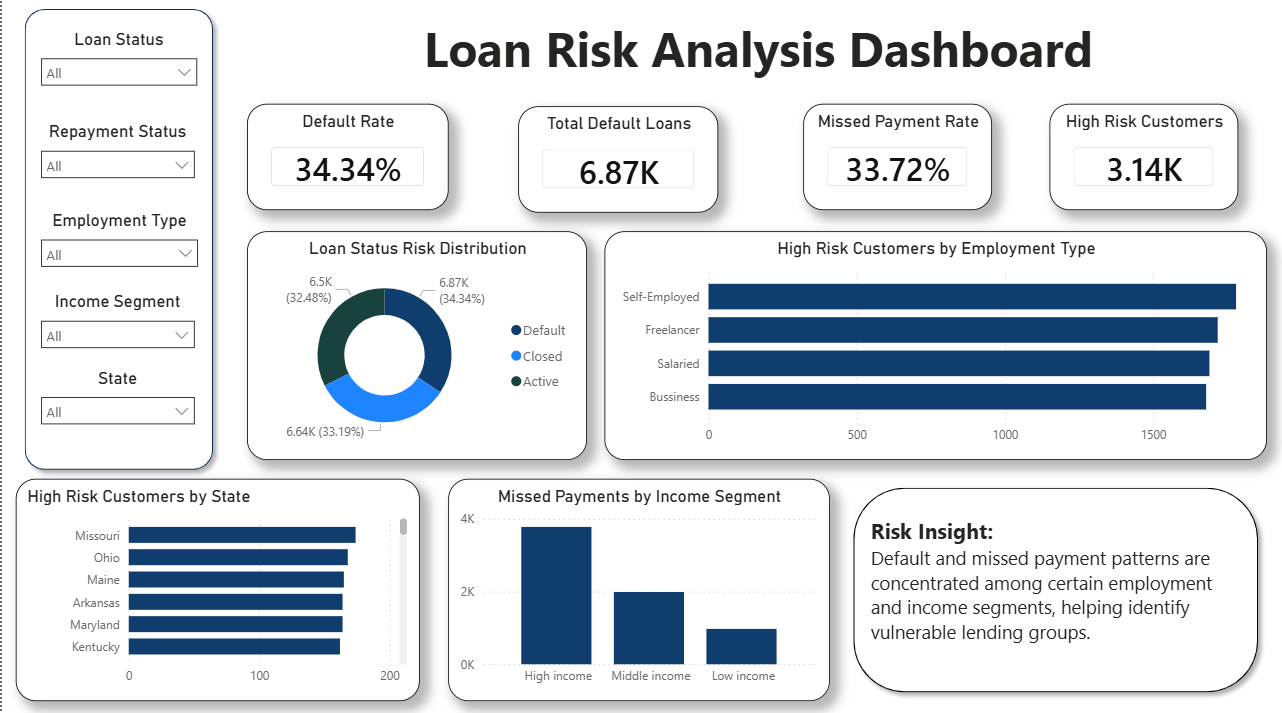

The page's visual inventory and layout, read from the dashboard file:
{"tool":"powerbi","page":{"name":"loan_risk_analysis","canvas":[1280,720],"ordinal":2},"visuals":[{"type":"shape","box":[842.5,478.8,422.5,222.5],"z":0},{"type":"shape","box":[13.8,0,206.2,478.8],"z":1000},{"type":"shape","box":[245,103.8,1020,110],"z":2000},{"type":"donutChart","title":"Loan Status Risk Distribution","fields":{"Category":["customer_loan_analytics.loan_status"],"Y":["CountNonNull(customer_loan_analytics.loan_status)"]},"box":[245,231.2,340,228.8],"z":3000},{"type":"clusteredBarChart","title":"High Risk Customers by Employment Type","fields":{"Category":["customer_loan_analytics.employment_type"],"Y":["Sum(customer_loan_analytics.high_risk_flag)"]},"box":[602.5,231.2,662.5,228.8],"z":4000},{"type":"slicer","title":"Employment Type","fields":{"Values":["customer_loan_analytics.employment_type"]},"box":[28.8,210,177.5,71.2],"z":5000},{"type":"slicer","title":"Income Segment","fields":{"Values":["customer_loan_analytics.income_segment"]},"box":[28.8,291.2,173.8,76.2],"z":6000},{"type":"slicer","title":"Loan Status","fields":{"Values":["customer_loan_analytics.loan_status"]},"box":[28.8,28.8,176.2,75],"z":7000},{"type":"slicer","title":"Repayment Status ","fields":{"Values":["customer_loan_analytics.repayment_status"]},"box":[28.8,121.2,173.8,73.8],"z":8000},{"type":"slicer","title":"State","fields":{"Values":["customer_loan_analytics.state"]},"box":[28.8,367.5,173.8,81.2],"z":9000},{"type":"shape","box":[277.1,10,990,74.3],"z":10000},{"type":"textbox","box":[245,10,1022.5,73.8],"z":11000},{"type":"cardVisual","title":"Total Default Loans","fields":{"Data":["customer_loan_analytics.Total Default Loans"]},"box":[516.2,106.2,200,106.2],"z":12000},{"type":"cardVisual","title":"Default Rate","fields":{"Data":["customer_loan_analytics.default rate"]},"box":[245,103.8,201.2,106.2],"z":13000},{"type":"cardVisual","title":"Missed Payment Rate","fields":{"Data":["customer_loan_analytics.Missed Payment Rate"]},"box":[801.2,103.8,188.8,106.2],"z":14000},{"type":"cardVisual","title":"High Risk Customers","fields":{"Data":["customer_loan_analytics.High Risk Customers"]},"box":[1047.5,103.8,188.8,106.2],"z":15000},{"type":"columnChart","title":"Missed Payments by Income Segment","fields":{"Category":["customer_loan_analytics.income_segment"],"Y":["Sum(customer_loan_analytics.missed_payment_flag)"]},"box":[446.2,478.8,381.2,222.5],"z":16000},{"type":"barChart","title":"High Risk Customers by State","fields":{"Y":["Sum(customer_loan_analytics.high_risk_flag)"],"Category":["customer_loan_analytics.state"]},"box":[13.8,478.8,403.8,222.5],"z":17000},{"type":"textbox","box":[863.8,511.2,372.5,157.5],"z":18000}]}

Visuals, with their boxes in screenshot pixels (x1, y1, x2, y2), scaled from the page's 1280x720 canvas onto the 1282x713 screenshot:
shape: 844,474,1267,694
shape: 14,0,220,474
shape: 245,103,1267,212
"Loan Status Risk Distribution" donutChart: 245,229,586,456
"High Risk Customers by Employment Type" clusteredBarChart: 603,229,1267,456
"Employment Type" slicer: 29,208,207,278
"Income Segment" slicer: 29,288,203,364
"Loan Status" slicer: 29,29,205,103
"Repayment Status " slicer: 29,120,203,193
"State" slicer: 29,364,203,444
shape: 278,10,1269,83
textbox: 245,10,1269,83
"Total Default Loans" cardVisual: 517,105,717,210
"Default Rate" cardVisual: 245,103,447,208
"Missed Payment Rate" cardVisual: 802,103,992,208
"High Risk Customers" cardVisual: 1049,103,1238,208
"Missed Payments by Income Segment" columnChart: 447,474,829,694
"High Risk Customers by State" barChart: 14,474,418,694
textbox: 865,506,1238,662
